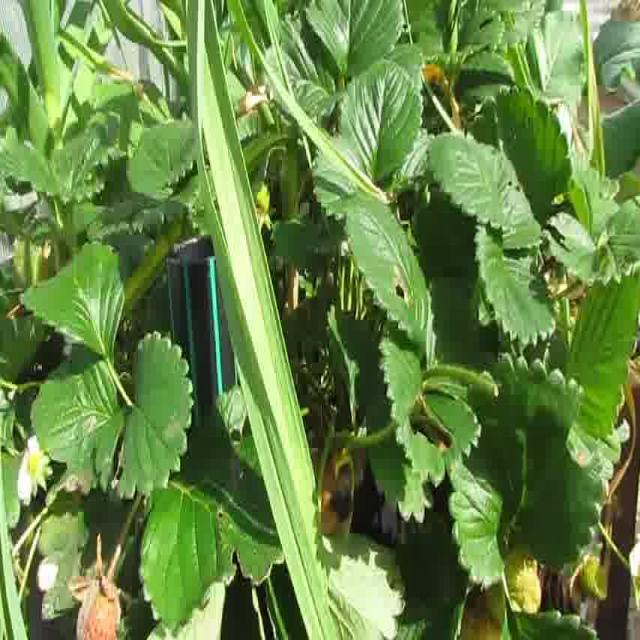Moho gris: (68, 570, 124, 640)
